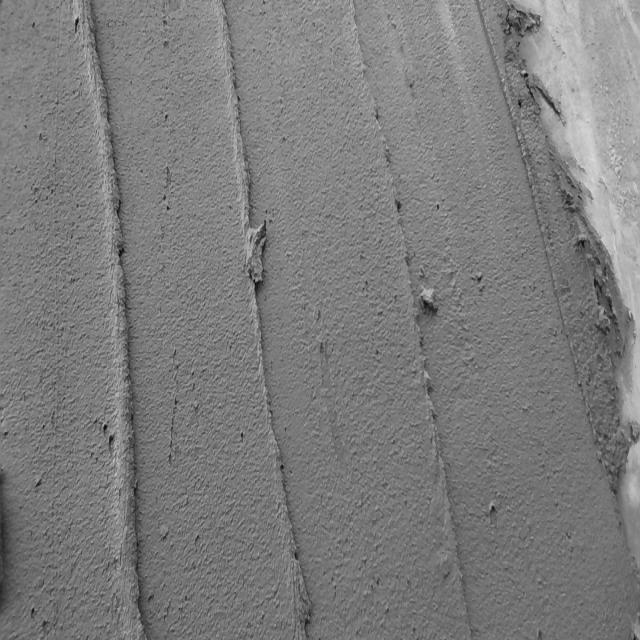trowels marks: (360, 25, 464, 640), (217, 4, 316, 640), (74, 6, 153, 640)
